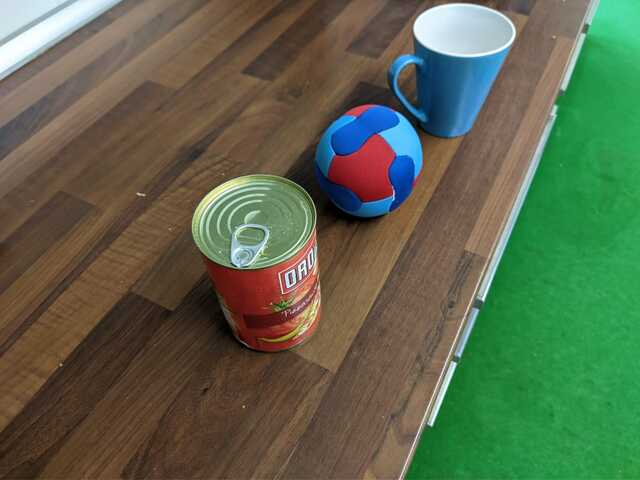005_tomato_soup_can: (186, 172, 326, 357)
025_mug: (386, 2, 518, 142)
057_racquetball: (313, 101, 425, 218)
